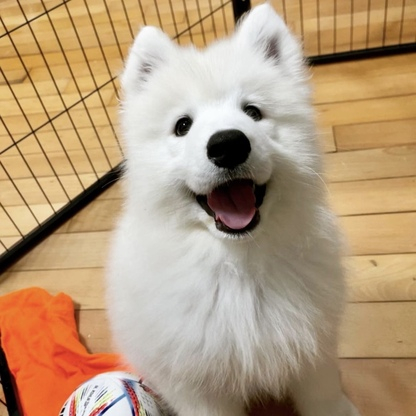samoyed: (102, 1, 357, 416)
